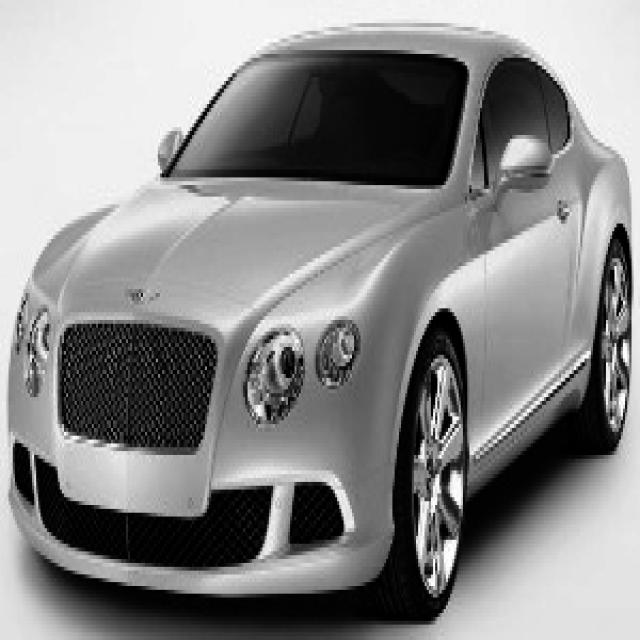car: (6, 19, 632, 621)
